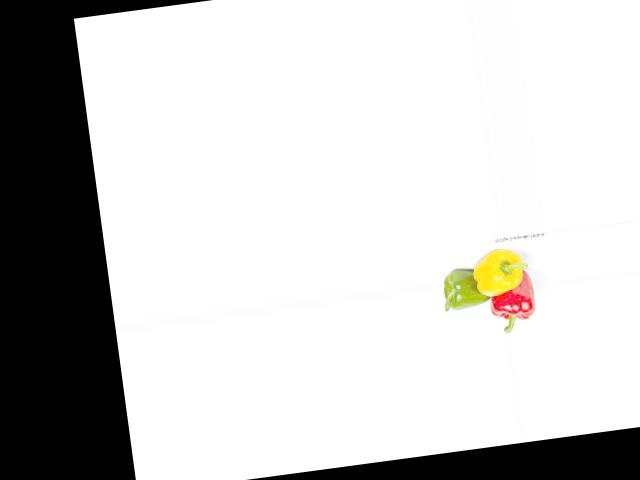bell_pepper: (486, 271, 543, 334)
